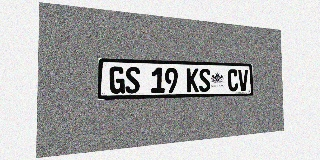1: (151, 67, 165, 93)
9: (165, 68, 178, 93)
C: (228, 69, 238, 91)
G: (109, 66, 125, 94)
K: (187, 68, 199, 92)
S: (125, 67, 140, 93), (199, 68, 210, 92)
V: (238, 69, 248, 91)
